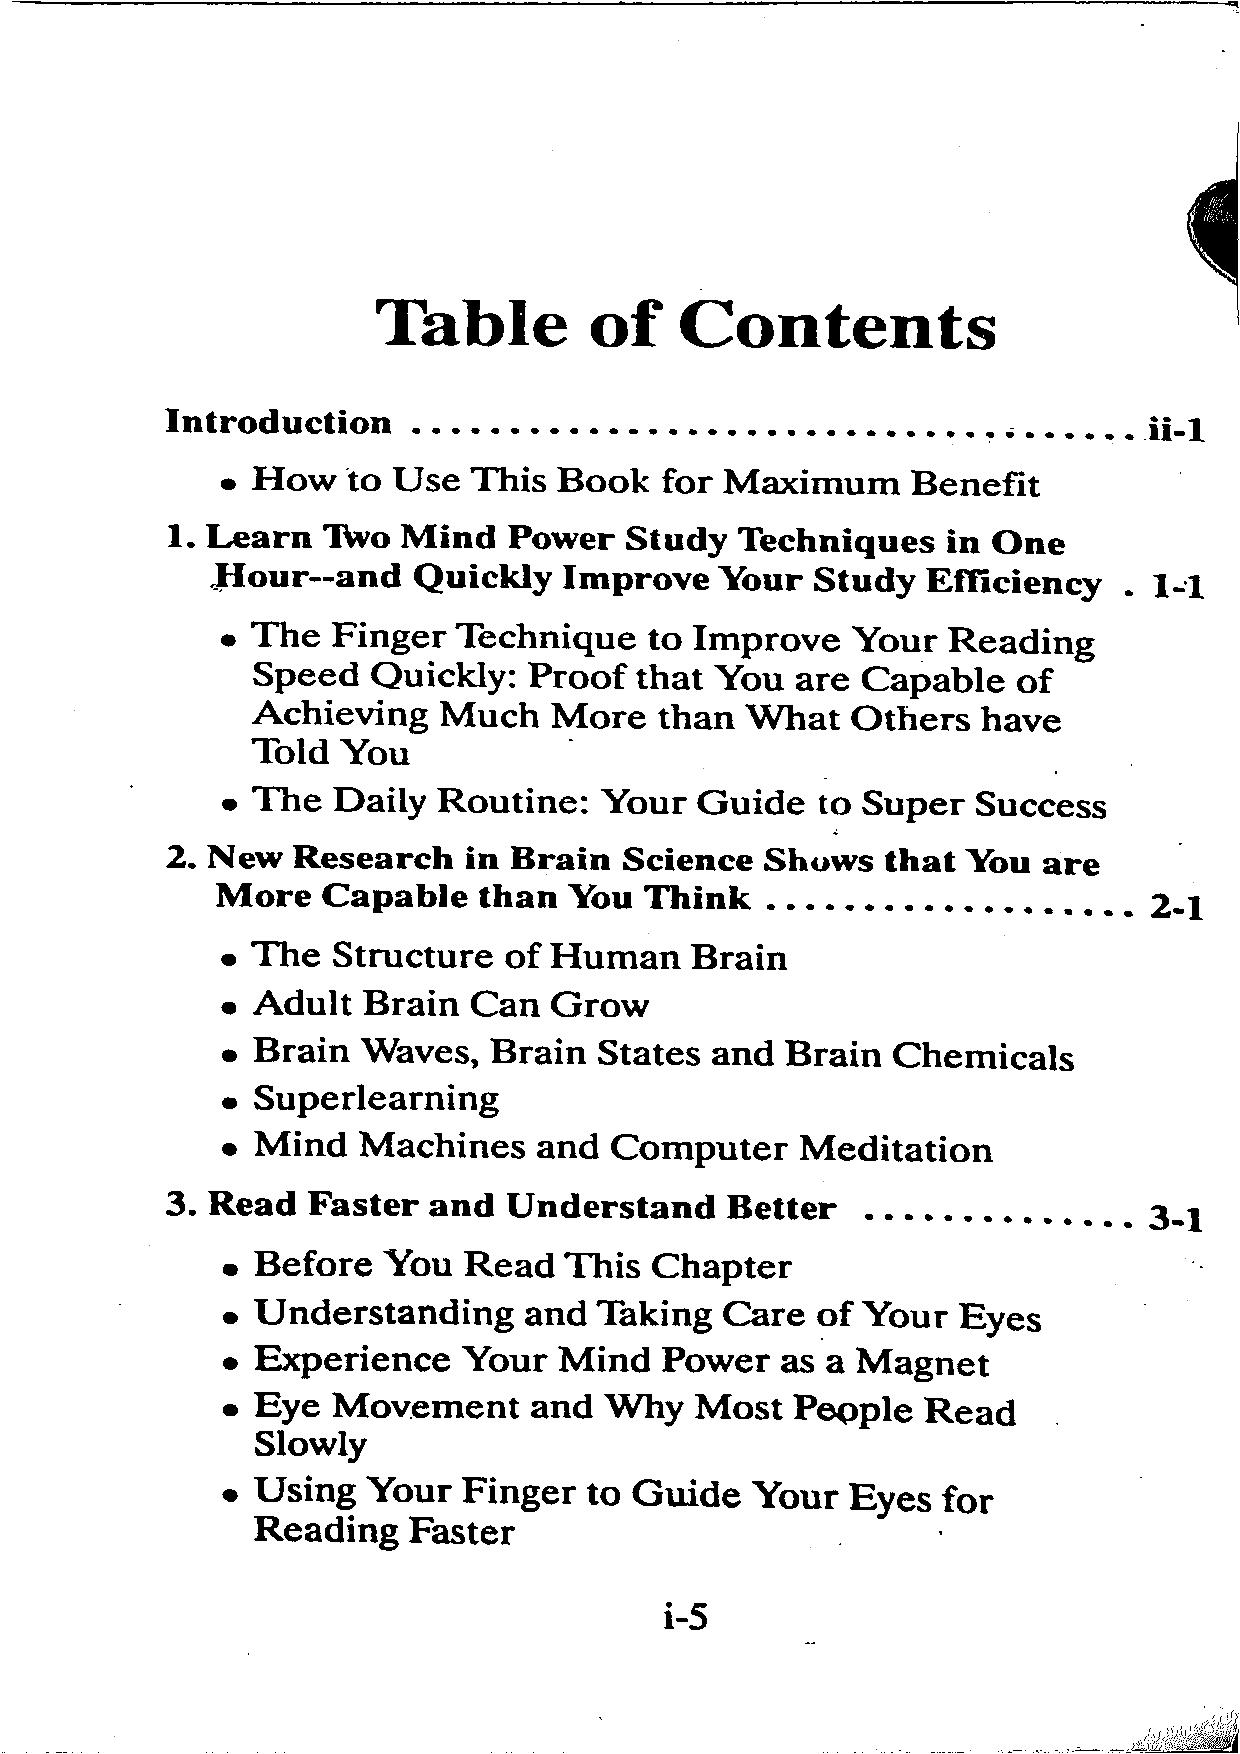TOC_chapter: (157, 1182, 1045, 1555), (160, 839, 1107, 1168), (158, 515, 1103, 823), (153, 403, 1041, 501)
TOC_pagenumber: (1143, 404, 1208, 451), (1143, 1194, 1209, 1240), (1141, 888, 1210, 931), (1143, 561, 1209, 605)
chapter: (365, 289, 997, 358)
